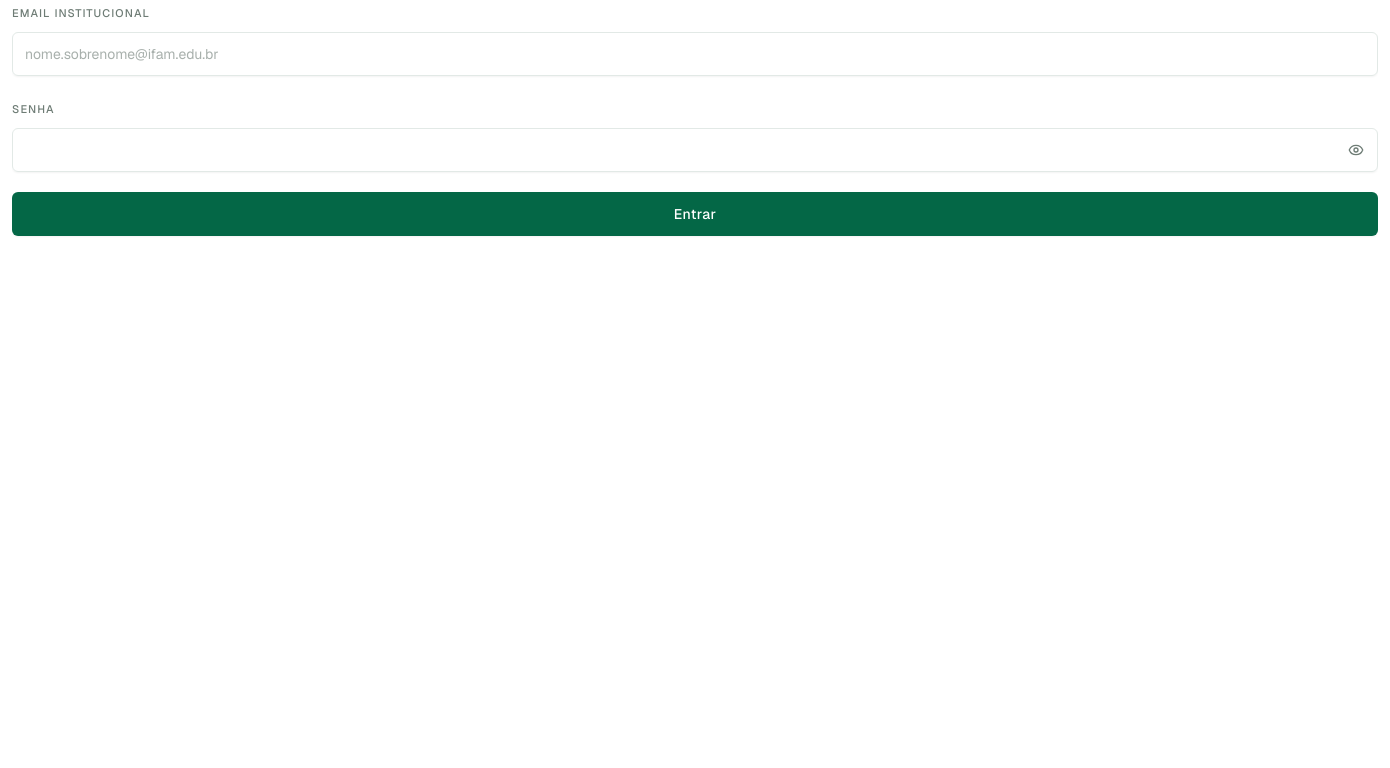
Test: <LoginForm /> › em erro RATE_LIMITED exibe mensagem específica
The image size is (1390, 768).
Type "joana@ifam.edu.br" into the field labelled "Email institucional".
click(695, 54); type("joana@ifam.edu.br")  # box [12,32,1378,76]
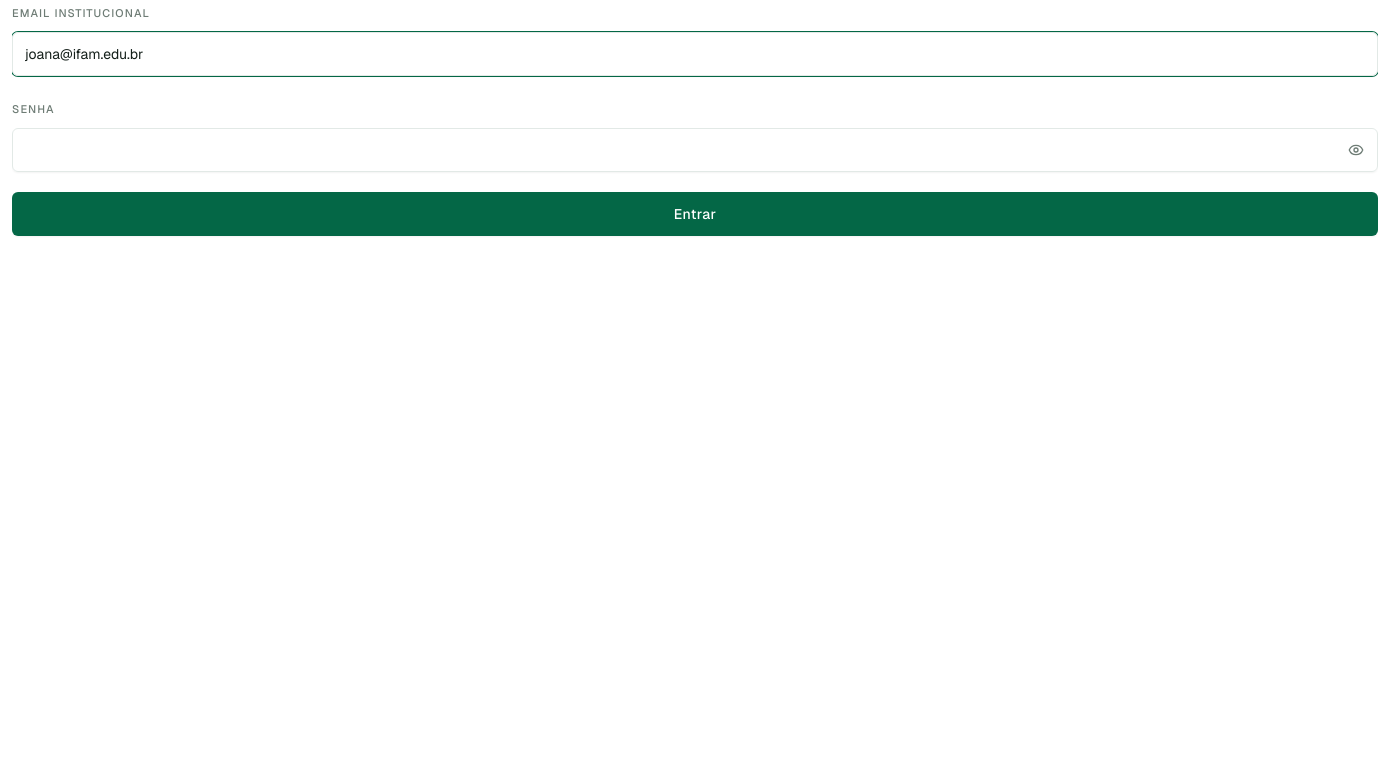
Type "senha123" into the password field labelled "Senha".
click(695, 150); type("senha123")  # box [12,128,1378,172]
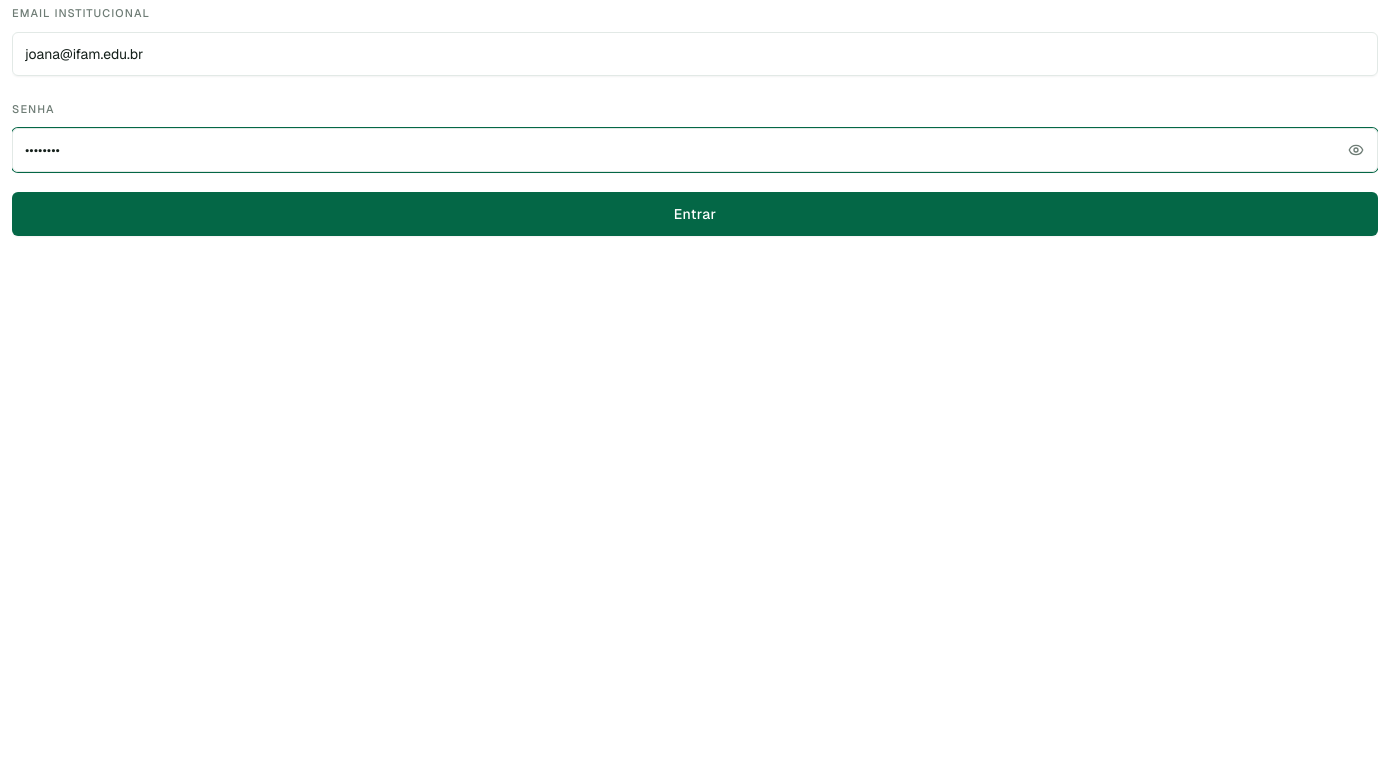
Click the button "Entrar".
click(695, 214)  # box [12,192,1378,236]
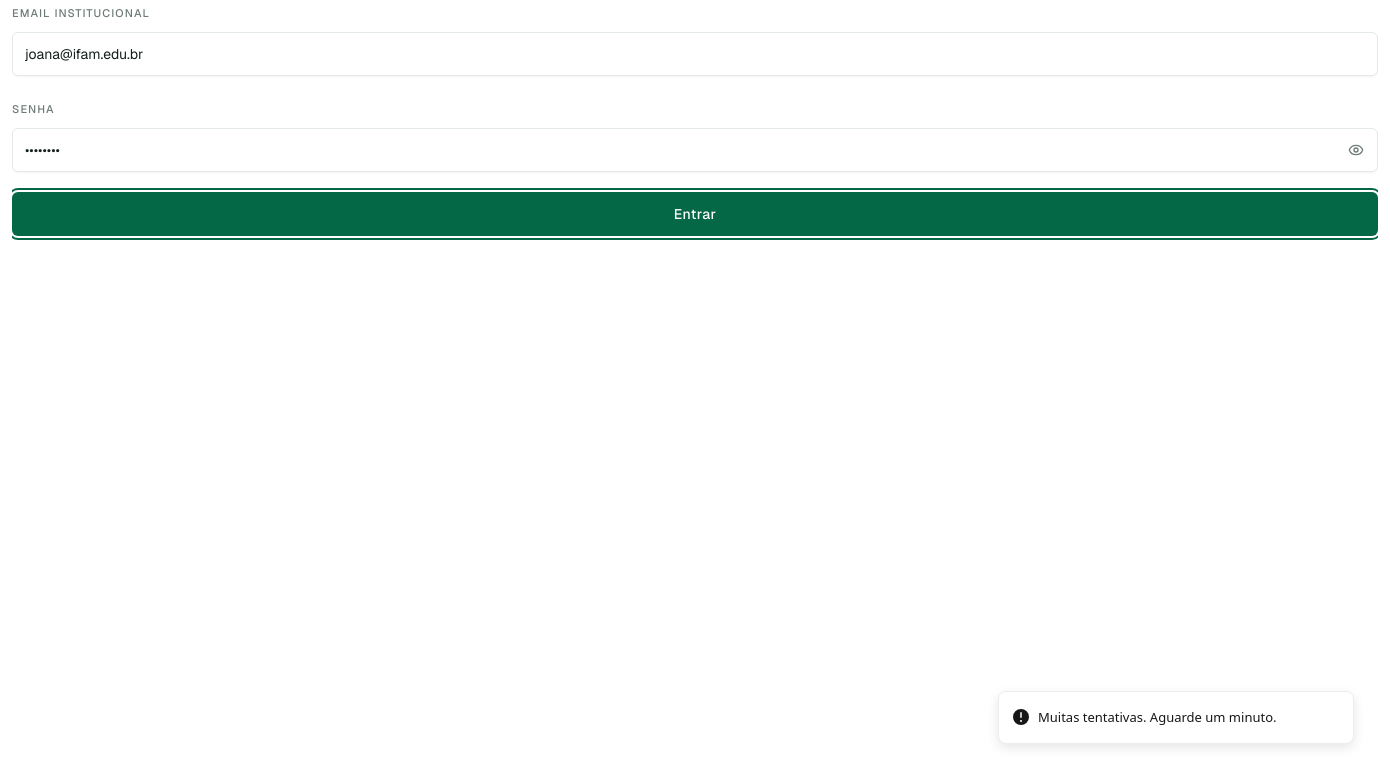
Now the text "Muitas tentativas. Aguarde um minuto." is shown, box [1038,708,1276,727]
